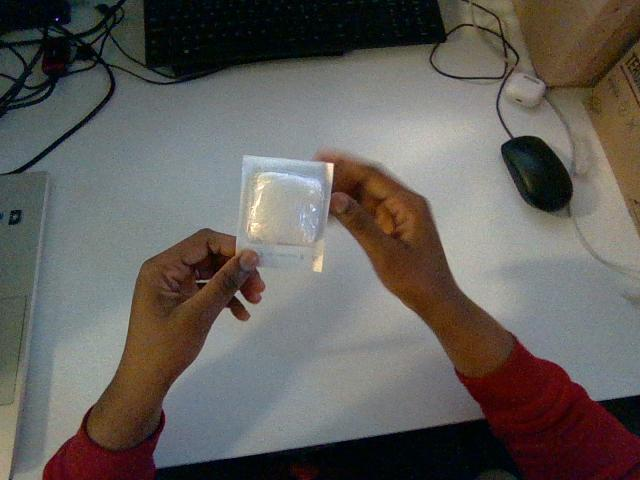gauze: (236, 156, 332, 271)
